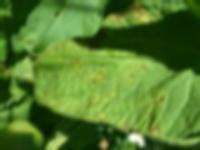Tomato Septoria leaf spot: (29, 34, 199, 146)
